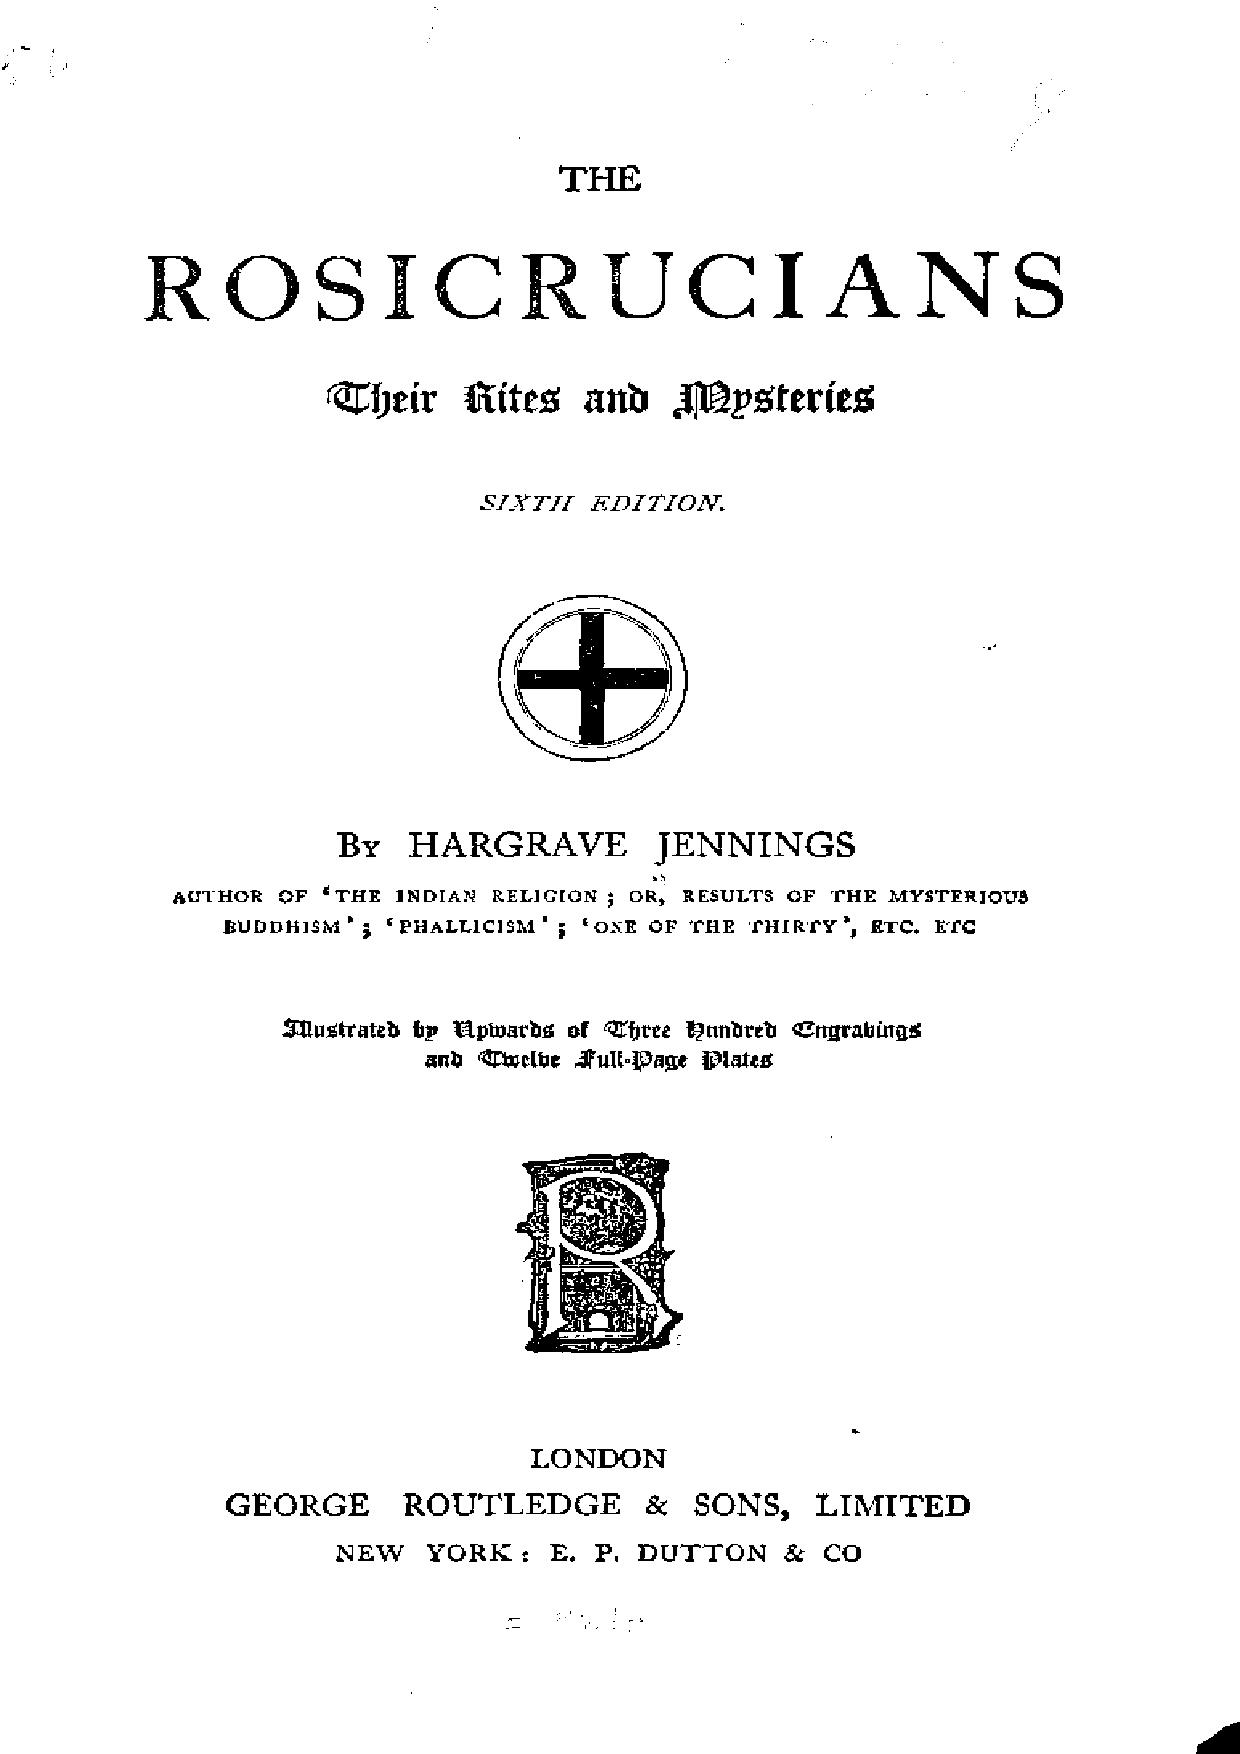author: (330, 824, 856, 870)
title: (140, 161, 1066, 424)
